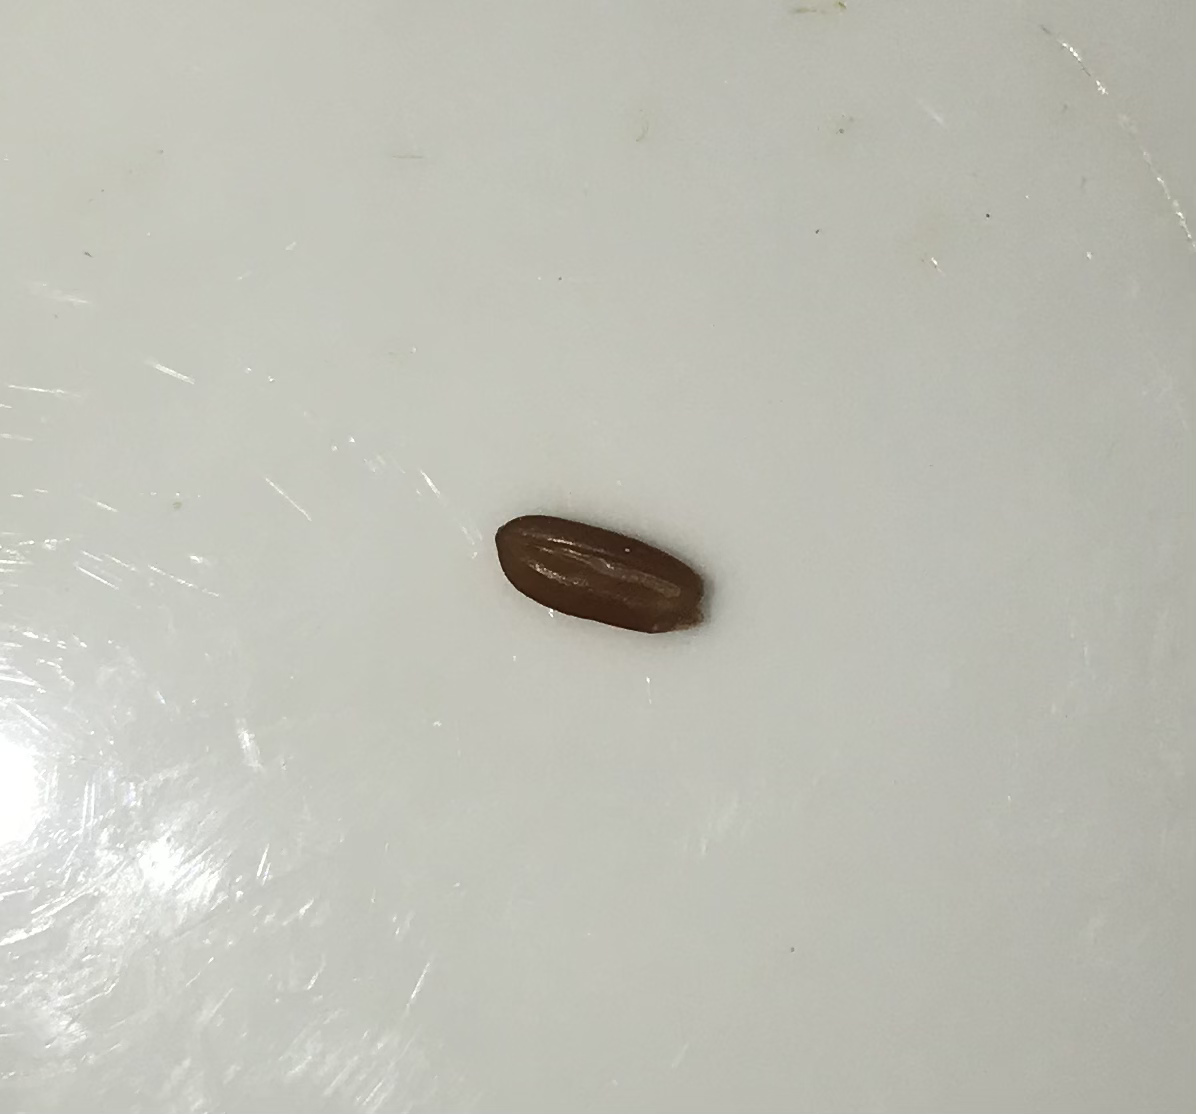Gao Lut Do: (481, 496, 715, 652)
